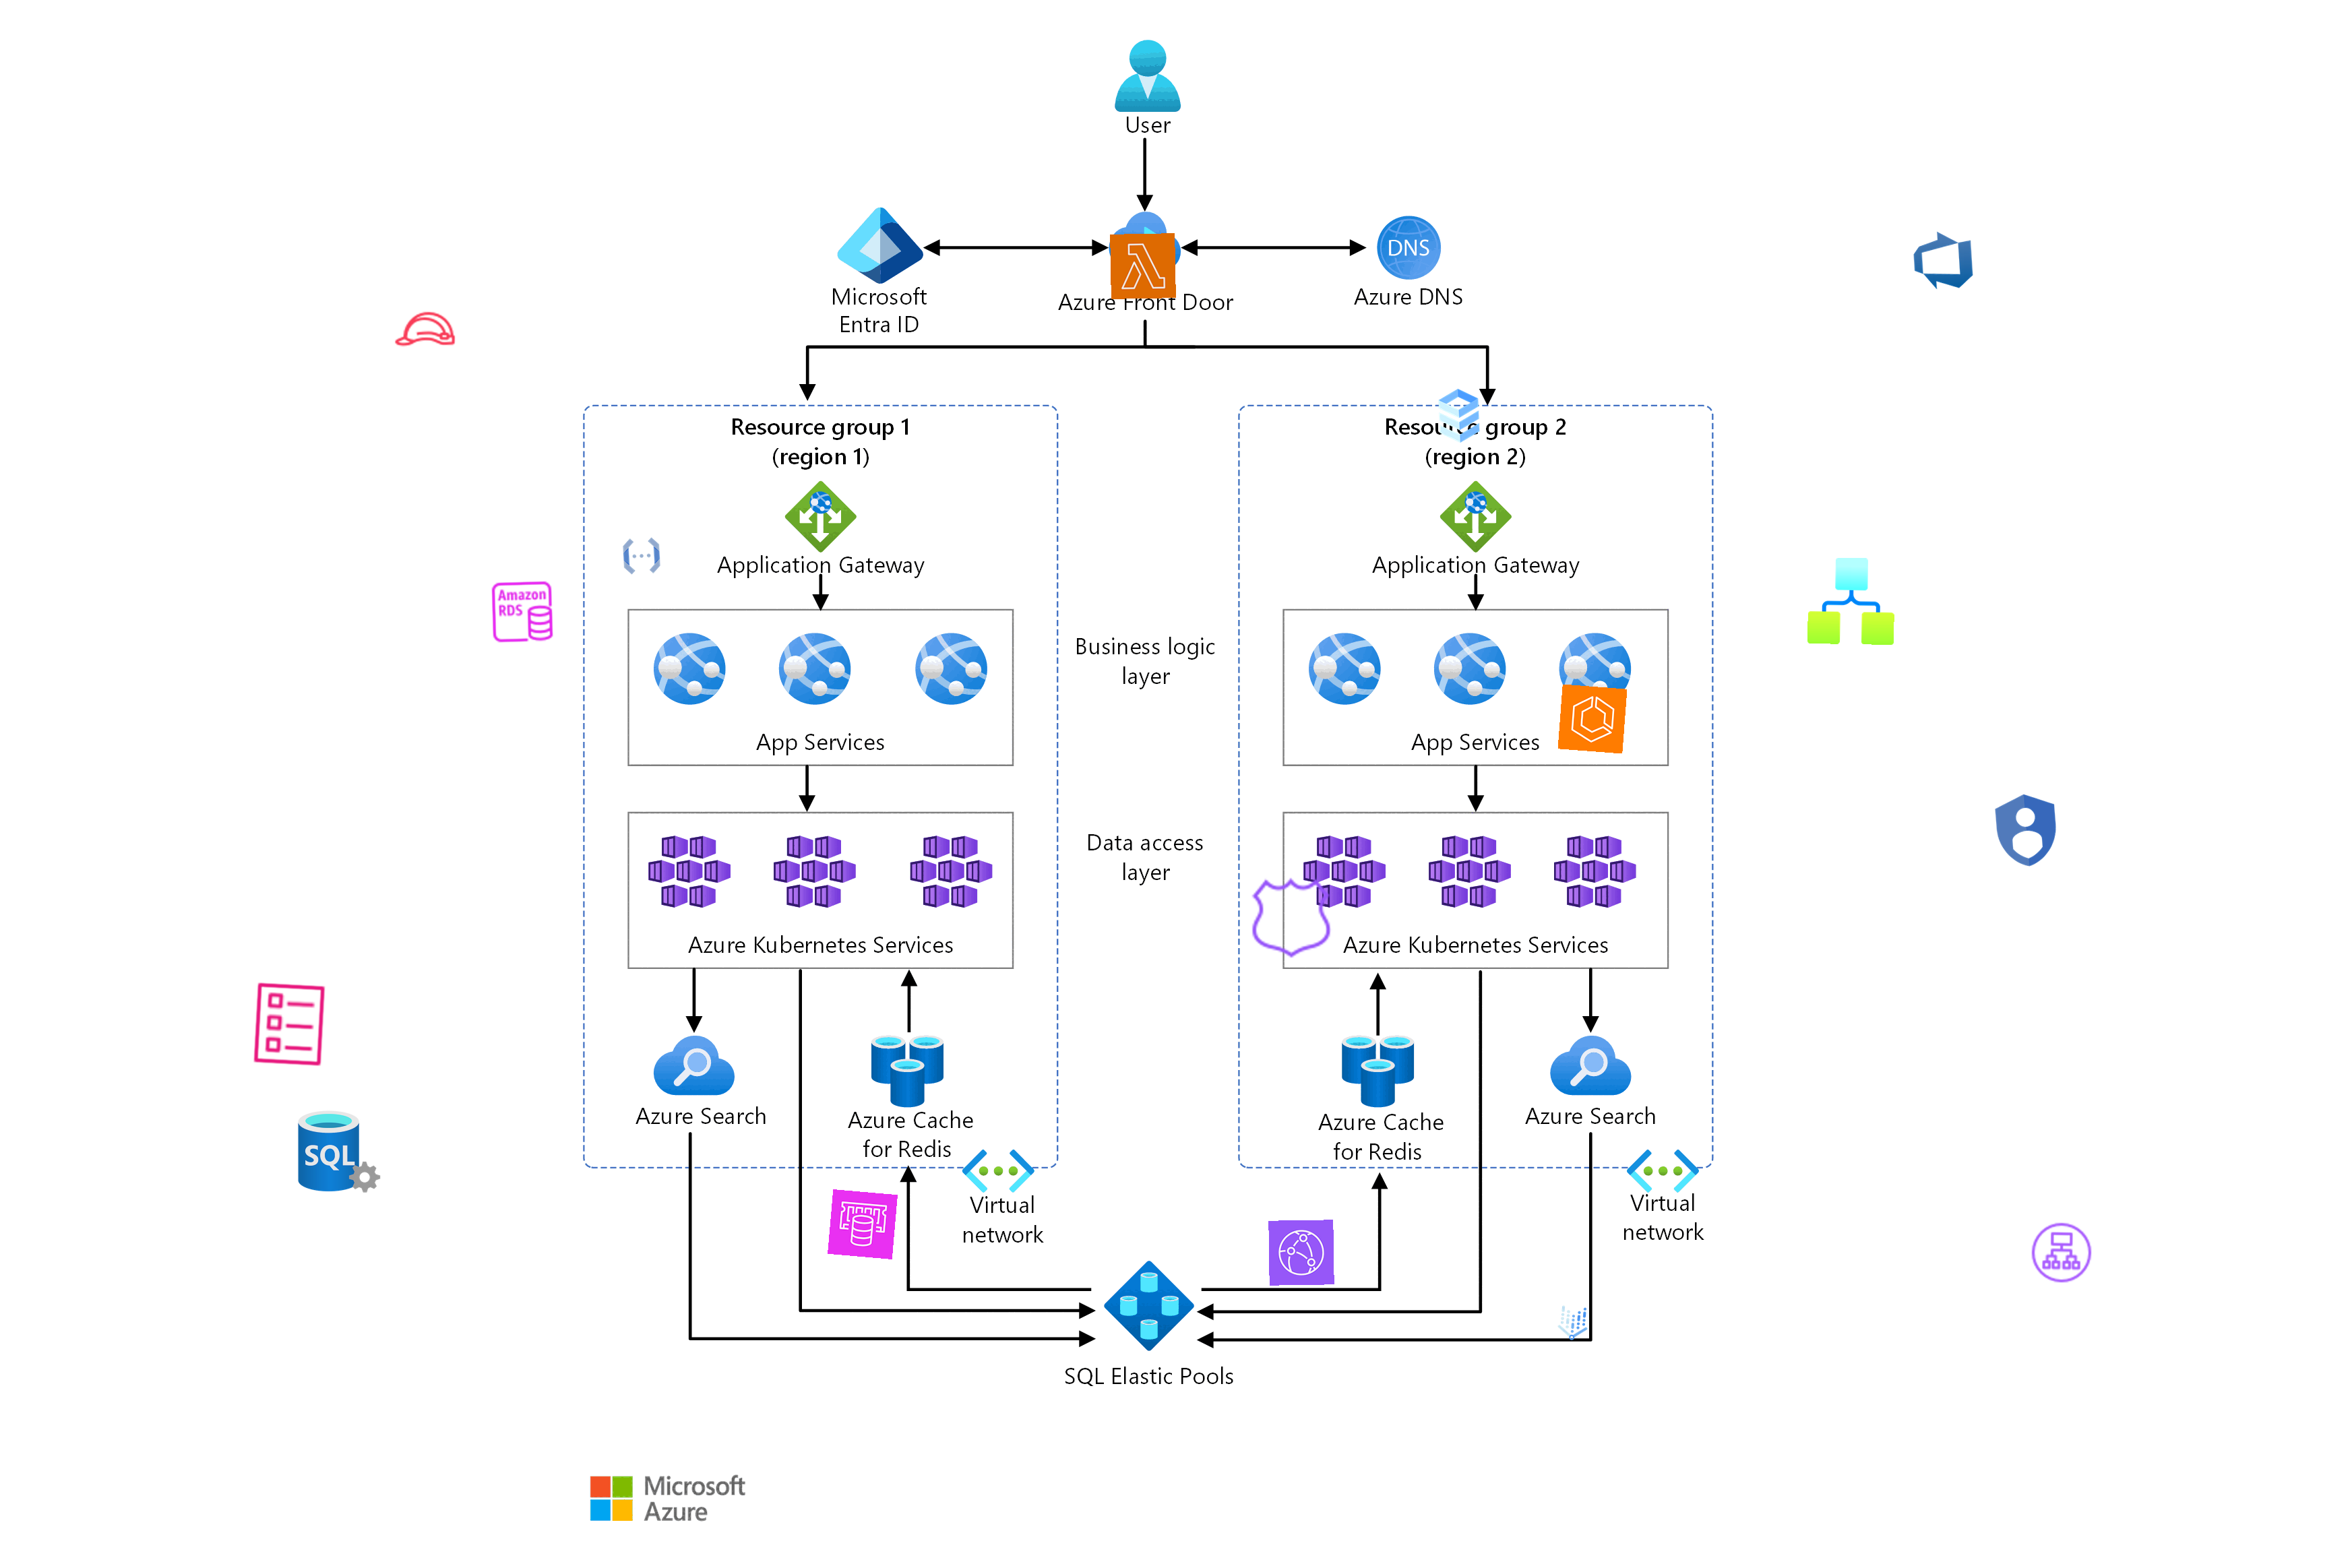aws_amazon_cloudfront: (1269, 1220, 1333, 1286)
aws_amazon_elastic_container_service: (1557, 684, 1627, 754)
aws_amazon_elasticache: (828, 1190, 898, 1260)
aws_aurora_amazon_rds_instance: (488, 578, 556, 646)
aws_cloudformation_template: (243, 978, 334, 1069)
aws_elastic_load_balancing_application_load_balancer: (2028, 1220, 2095, 1286)
aws_identity_access_management_role: (392, 296, 458, 364)
aws_lambda: (1109, 233, 1176, 299)
aws_route_53_hosted_zone: (1248, 873, 1335, 961)
azure_devops: (1909, 226, 1977, 294)
azure_logic_apps: (1806, 557, 1895, 646)
azure_sql_server: (296, 1108, 383, 1195)
gcp_cloud_functions: (619, 534, 665, 579)
gcp_cloud_sql: (1424, 382, 1493, 450)
gcp_identity_and_access_management: (1979, 784, 2074, 877)
gcp_vertex_ai: (1549, 1300, 1596, 1347)
